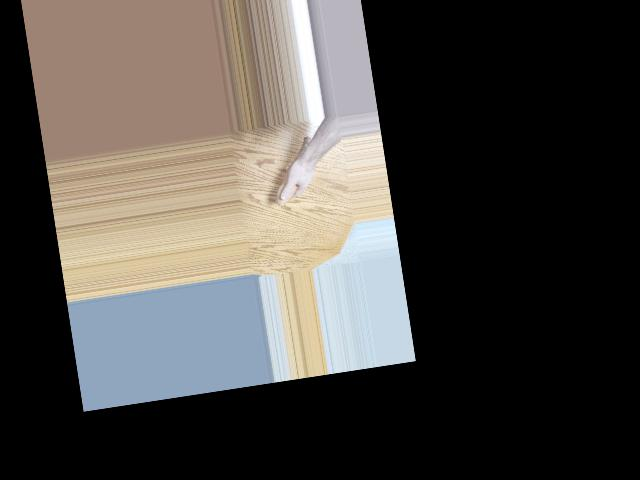sweet_potato: (267, 133, 321, 207)
